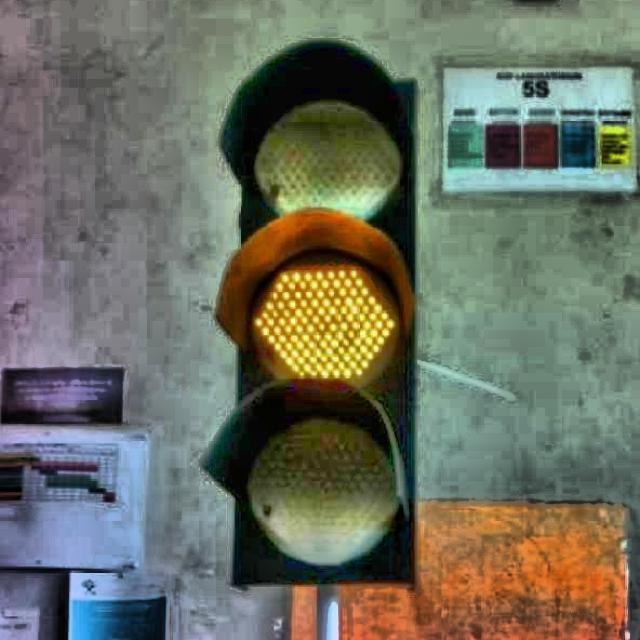yellow: (229, 66, 418, 586)
